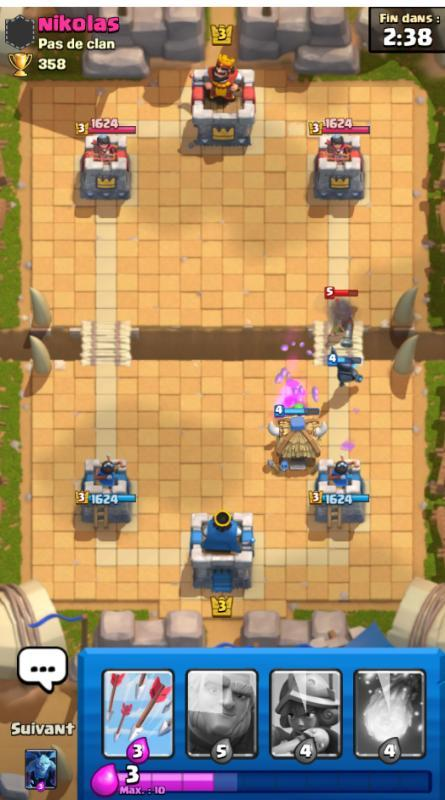enemy_musketeer: (312, 283, 366, 340)
player_goblin_hut: (263, 404, 328, 473)
player_mini_pekka: (323, 349, 369, 389)
